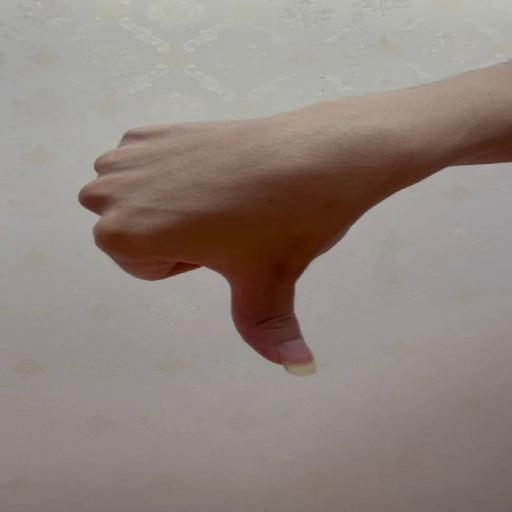thumbs_down: (76, 119, 367, 378)
